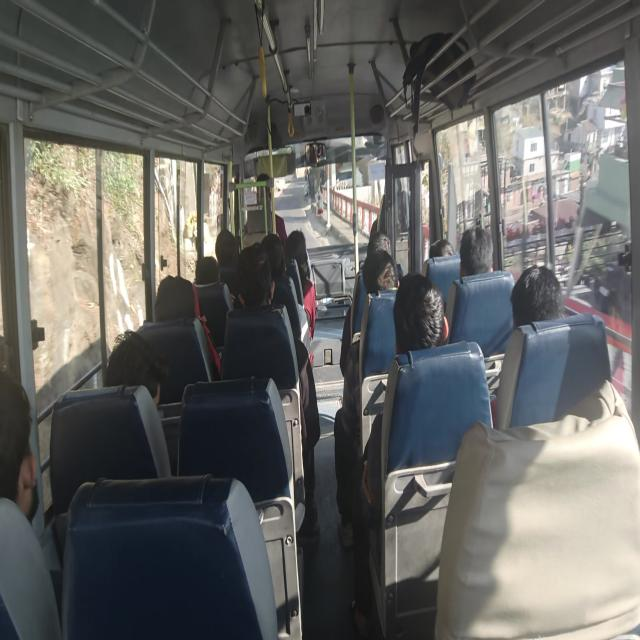person: (0, 370, 54, 528), (507, 255, 564, 336), (392, 278, 449, 356), (108, 328, 168, 400), (238, 238, 274, 312), (153, 271, 200, 327), (459, 223, 495, 282), (363, 250, 404, 298), (360, 220, 400, 253), (251, 166, 277, 216), (262, 227, 289, 275), (192, 250, 225, 286), (426, 233, 460, 262), (214, 222, 239, 260), (382, 165, 406, 200), (286, 228, 308, 264), (389, 274, 390, 275)
